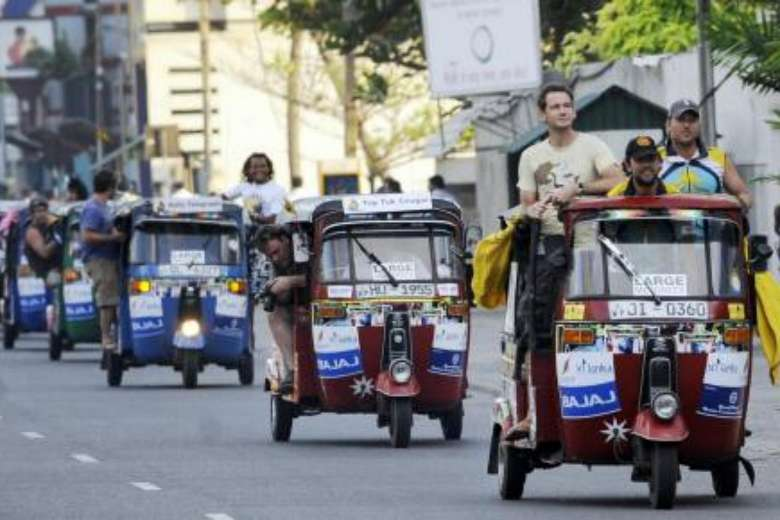tuk tuk: (488, 196, 757, 510), (294, 193, 470, 449), (120, 201, 252, 391)
